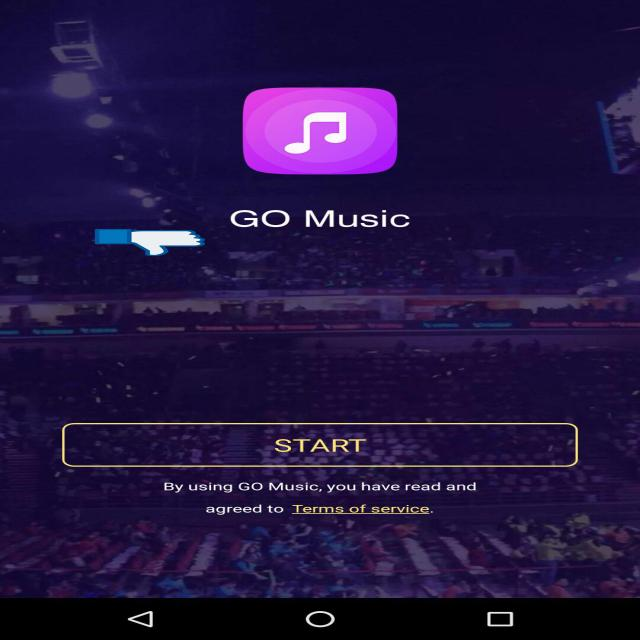obstruction: (95, 228, 205, 257)
